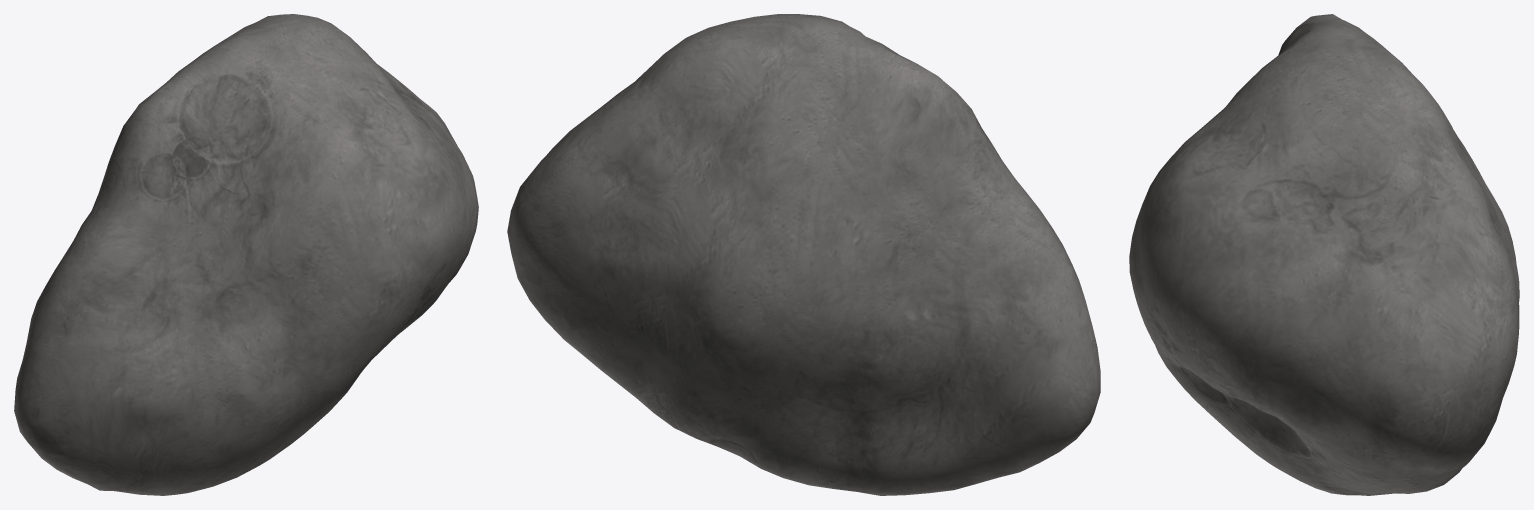
The model's file is remus.glb.
The picture shows the model from 3 angles, left to right: view 1: azimuth 30°, elevation 25°; view 2: azimuth 150°, elevation 25°; view 3: azimuth 270°, elevation 25°; orthographic projection. The views are drawn at different scales.
Parts seen in each view (by area): view 1: asteroid_02; view 2: asteroid_02; view 3: asteroid_02.
Part boxes in pixels (<box>): asteroid_02: <box>14,14,478,495</box>; asteroid_02: <box>507,14,1100,495</box>; asteroid_02: <box>1129,14,1519,495</box>.
Bounding box in the file's own units: 1.38 × 1.16 × 0.8749.
1 material, 1 textured.
